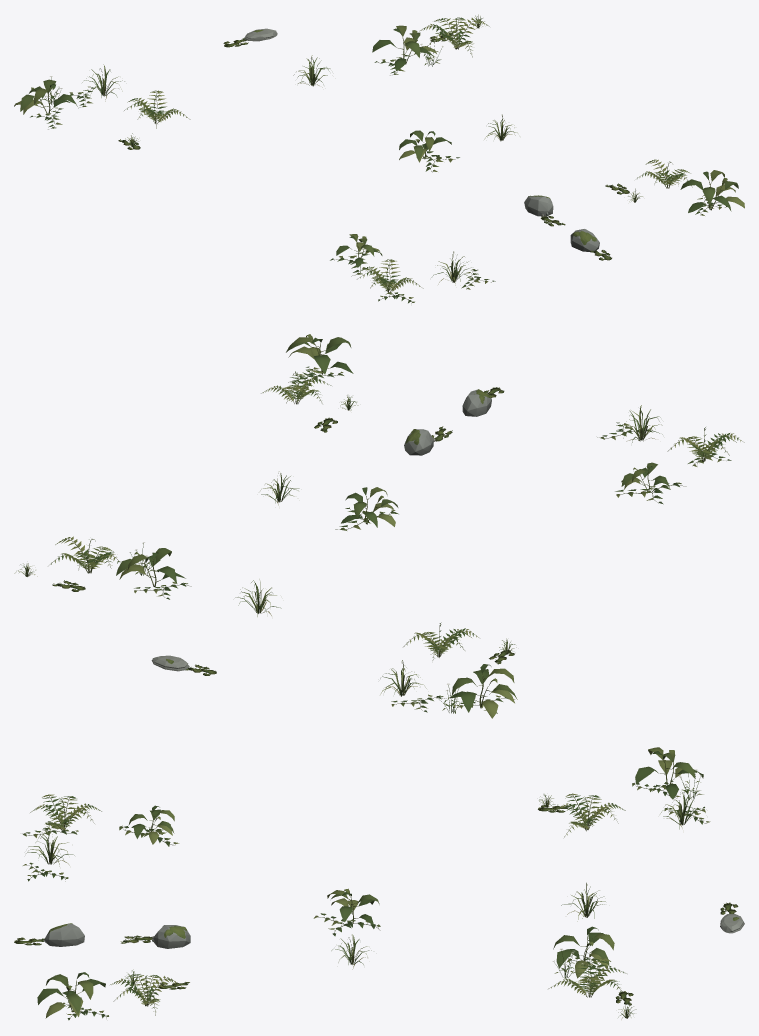
Rendered from dressing_stage20.glb.
3 views of the same model, one above another, from view 1: azimuth 30°, elevation 25°; view 2: azimuth 150°, elevation 25°; view 3: azimuth 270°, elevation 25° (orthographic). The views are drawn at different scales.
Visible parts, largest first — view 1: stage1_dressing_foliage, stage1_dressing_rocks; view 2: stage1_dressing_foliage, stage1_dressing_rocks; view 3: stage1_dressing_foliage, stage1_dressing_rocks.
Part boxes in pixels (bbox=[...]): stage1_dressing_foliage: bbox=[14, 14, 744, 303]; stage1_dressing_rocks: bbox=[244, 28, 599, 252]; stage1_dressing_foliage: bbox=[14, 334, 744, 718]; stage1_dressing_rocks: bbox=[151, 389, 491, 671]; stage1_dressing_foliage: bbox=[14, 747, 738, 1020]; stage1_dressing_rocks: bbox=[44, 914, 744, 948].
Size of the model in its own units: 5.74 by 0.4278 by 6.98.
